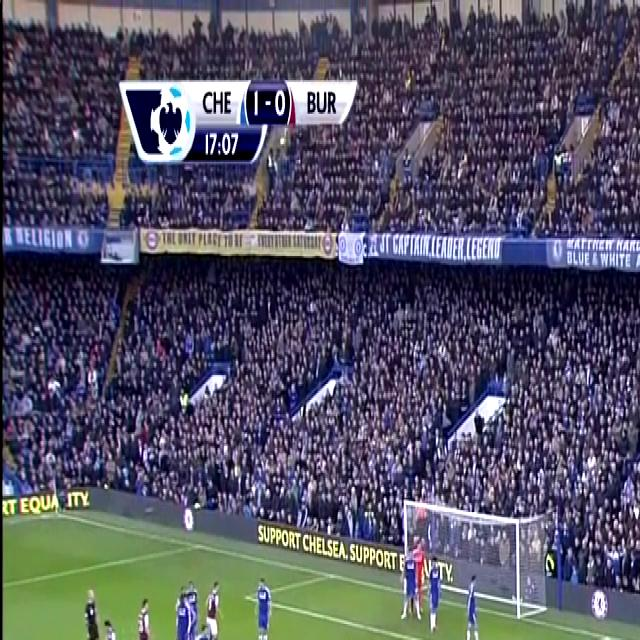referee: (83, 579, 105, 640)
soccer-player: (396, 545, 424, 626), (250, 567, 275, 640), (201, 570, 225, 640), (459, 567, 482, 640), (427, 557, 446, 638), (129, 590, 153, 640), (94, 615, 117, 640), (192, 624, 217, 640)
